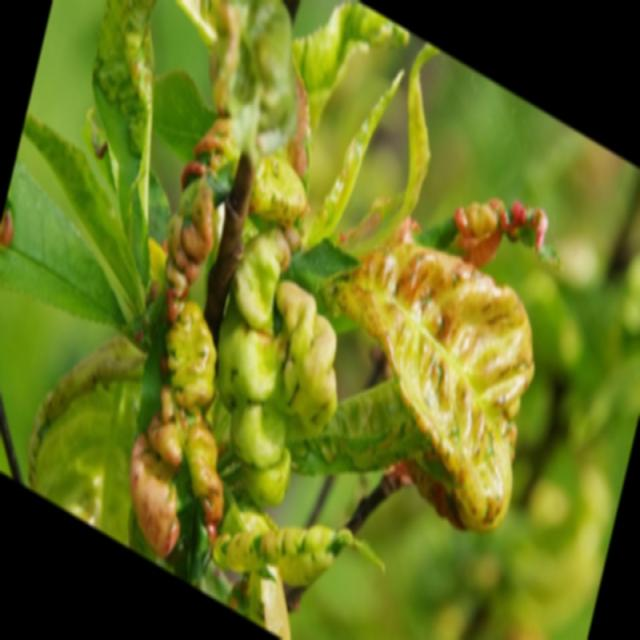peach_leaf_curl: (334, 226, 536, 534), (163, 92, 248, 607)
